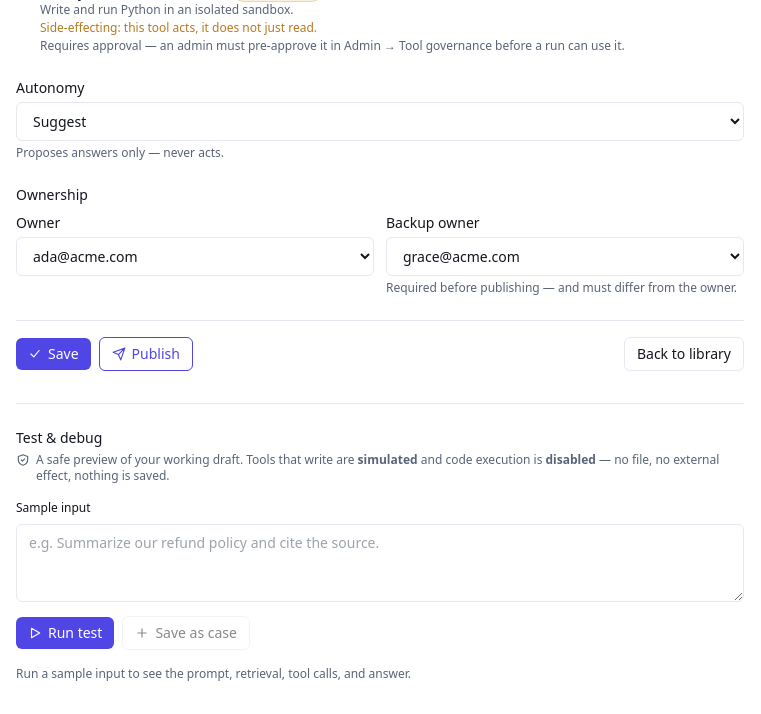
AssistantEditor — publish gating (AC-1, ADR-0011 §4) › surfaces a 422 from publish INLINE (missing backup owner, INV-8)
The image size is (761, 714).
(page scrolled)
Click the button "Publish" at (146, 354), box [99,337,193,371]
(page scrolled)
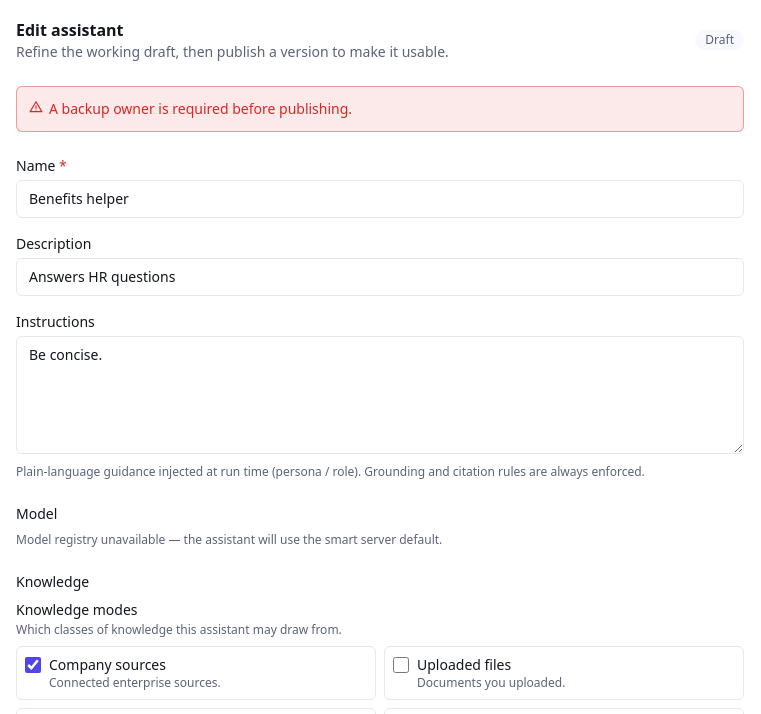
Expected: the text "A backup owner is required before publishing." is shown, [49,99,352,119]
